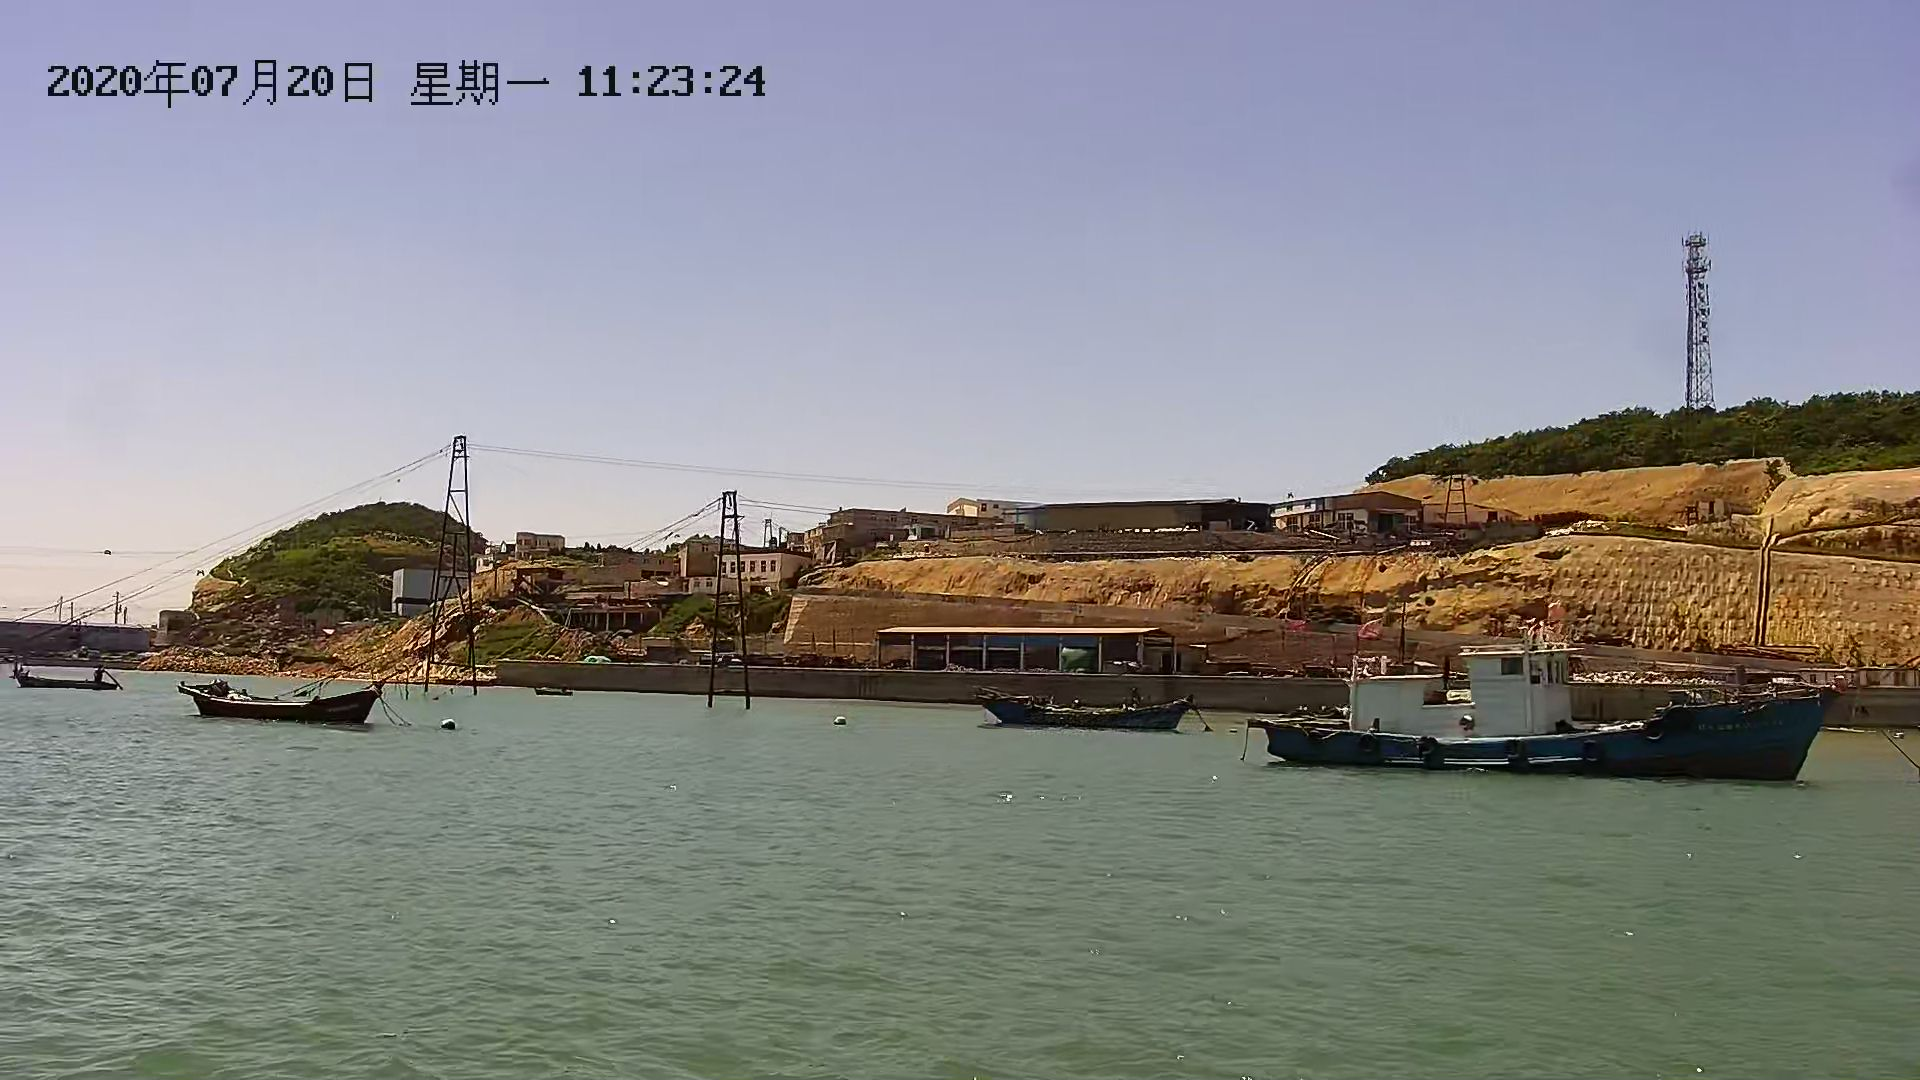ball: (429, 719, 471, 736), (832, 715, 855, 731)
boat: (1244, 641, 1840, 779), (969, 683, 1200, 735), (174, 679, 393, 732), (7, 659, 123, 694)
mast: (425, 436, 484, 702), (696, 487, 758, 708)
